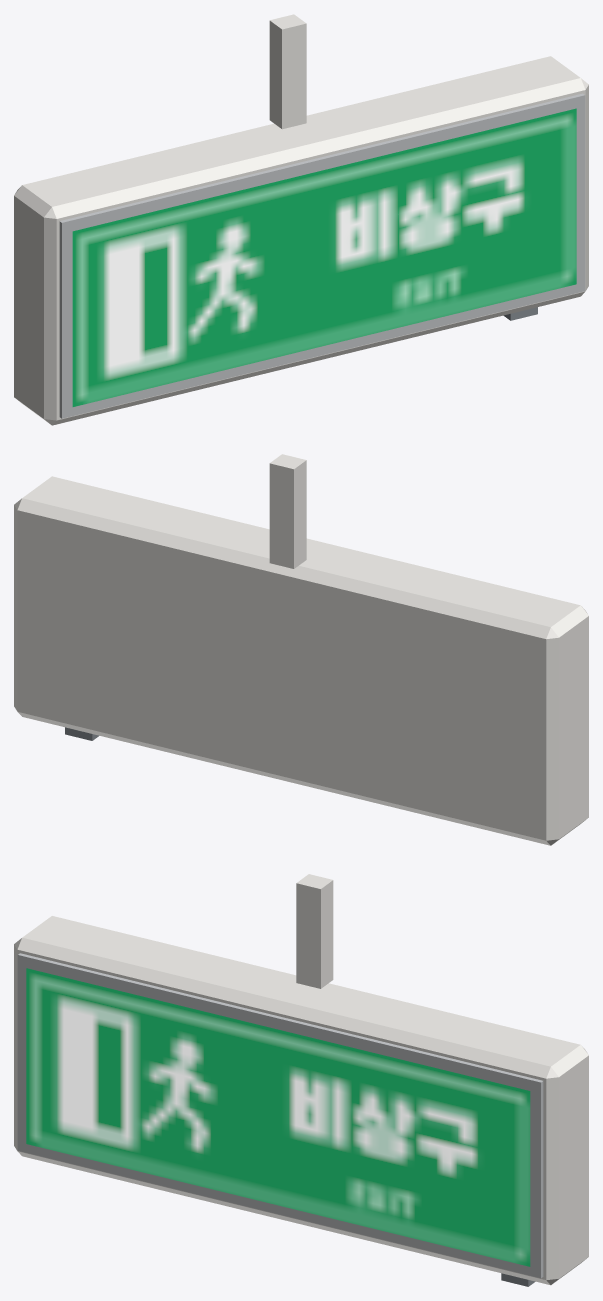
File: SC_Fix_Exit_Sign.gltf
The picture shows the model from 3 angles, top to bottom: view 1: azimuth 30°, elevation 25°; view 2: azimuth 150°, elevation 25°; view 3: azimuth 330°, elevation 25°; orthographic projection.
Visible parts, largest first — view 1: SC_Fix_Exit_Sign; view 2: SC_Fix_Exit_Sign; view 3: SC_Fix_Exit_Sign.
Part boxes in pixels (x1,y1,x2,y2): SC_Fix_Exit_Sign: (14,14,588,425); SC_Fix_Exit_Sign: (14,454,588,845); SC_Fix_Exit_Sign: (14,874,588,1286).
Bounding box in the file's own units: 0.4 × 0.2353 × 0.0545.
Materials: 3 (3 with a texture image).
